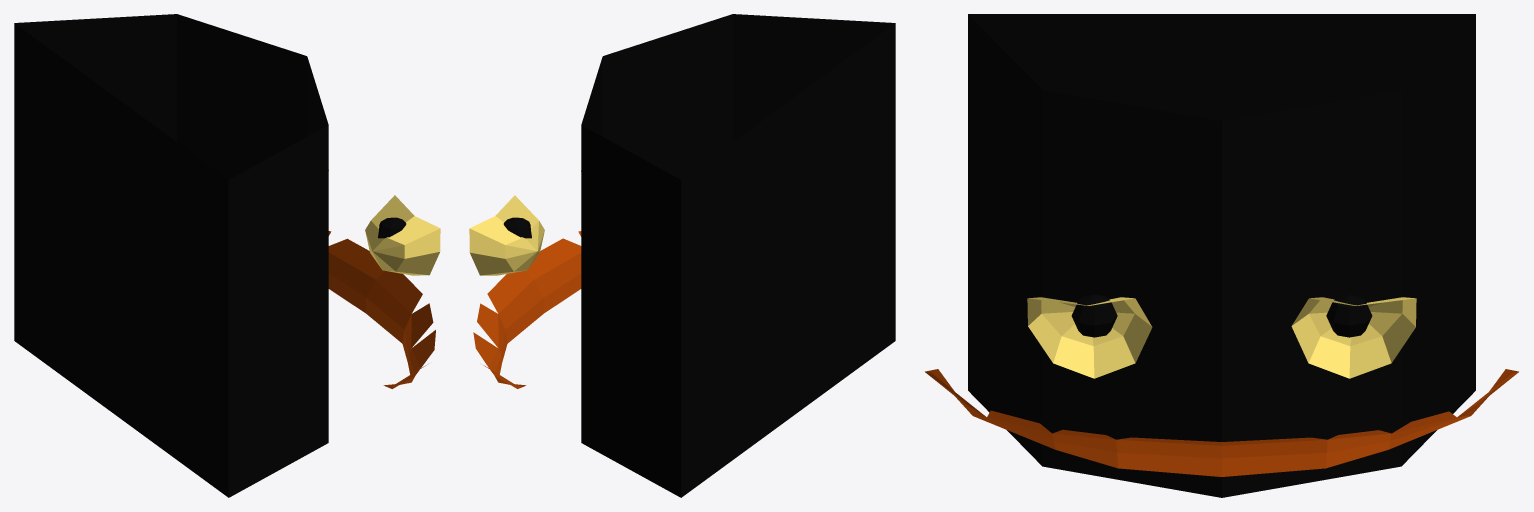
The model's file is hideobake2.fbx.
The picture shows the model from 3 angles, left to right: view 1: azimuth 30°, elevation 25°; view 2: azimuth 150°, elevation 25°; view 3: azimuth 270°, elevation 25°; orthographic projection. The views are drawn at different scales.
Parts seen in each view (by area): view 1: 平面; view 2: 平面; view 3: 平面.
Part boxes in pixels (left/top/right/bottom): 平面: left=14, top=14, right=440, bottom=497; 平面: left=469, top=14, right=895, bottom=497; 平面: left=925, top=14, right=1518, bottom=497.
Bounding box in the file's own units: 39.14 × 43.77 × 62.7.
